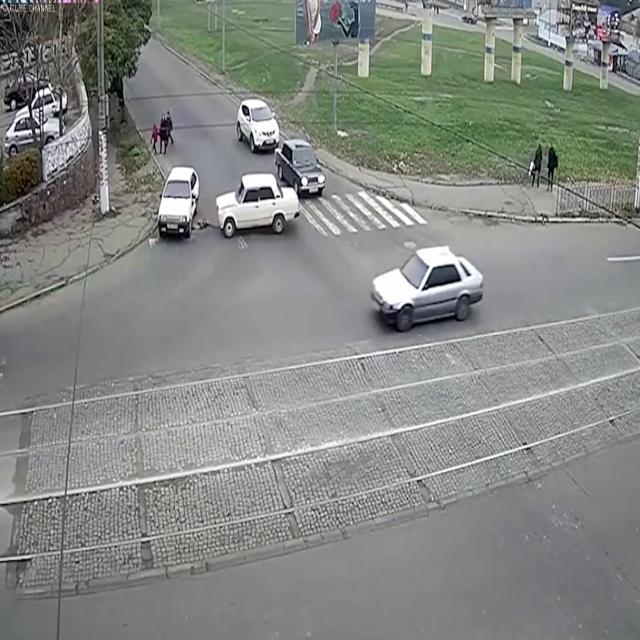accident: (152, 159, 304, 248)
